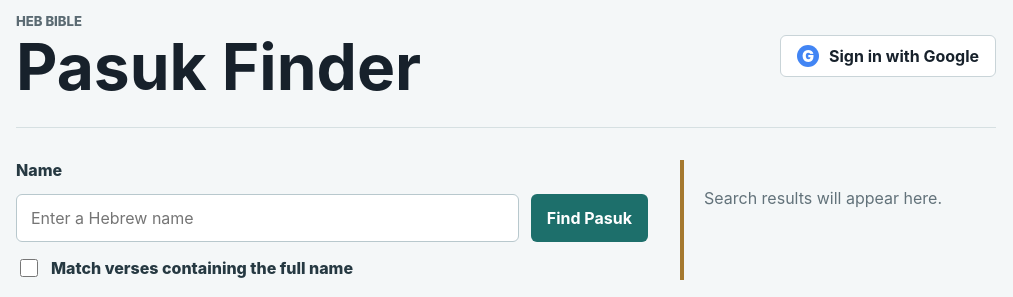
Test: App › searches psukim with name and containsName query parameters
In the field with id "name": x=267, y=218 [16,194,519,242], type "משה"
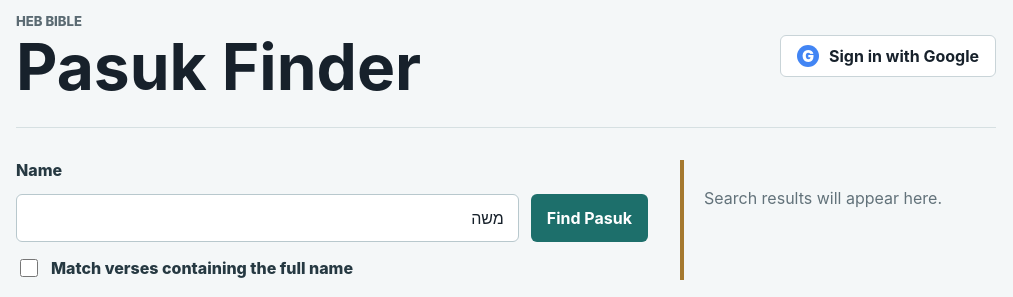
Click the checkbox labelled "Match verses containing the full name": x=29, y=268 [20,259,38,277]
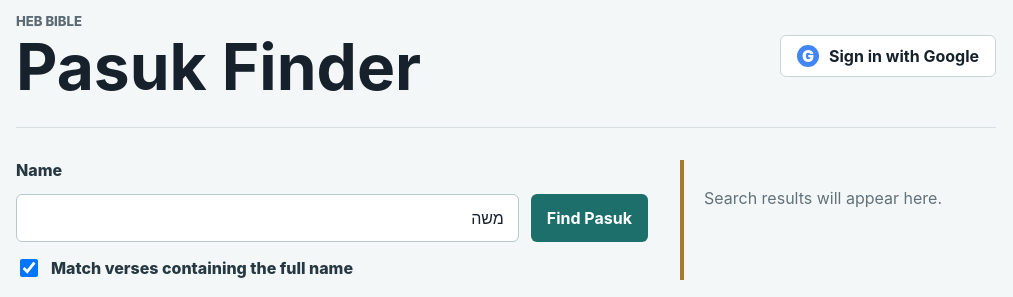
Submit the form, box [16,160,648,280]
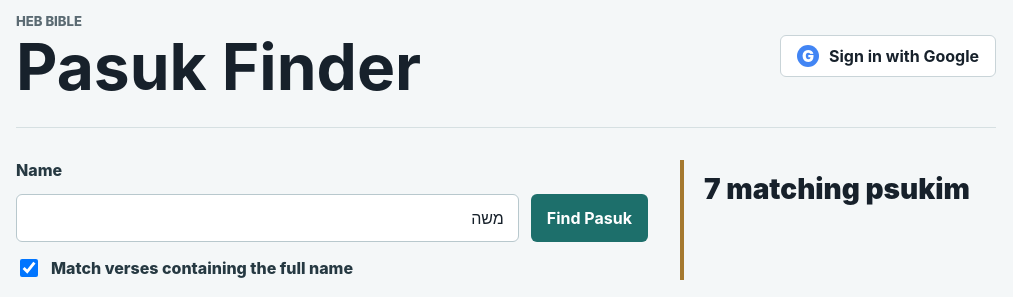
Check: the text "7 matching psukim" is shown, box [704,172,996,206]
